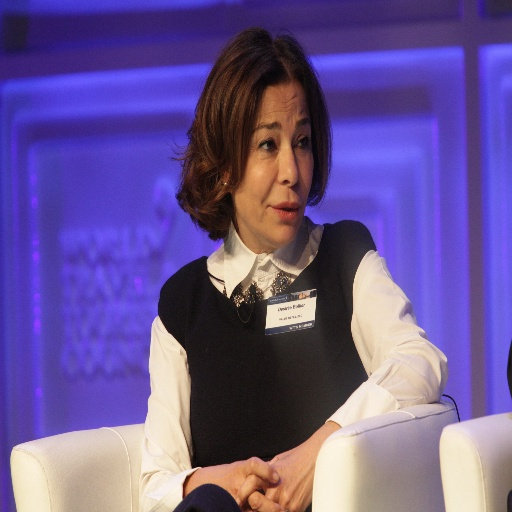hand: (233, 442, 316, 511), (206, 455, 288, 511)
